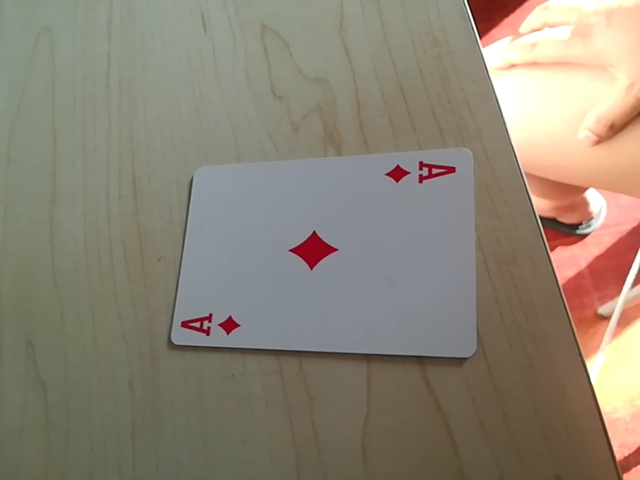fk a: (176, 309, 244, 341), (383, 158, 458, 187)
